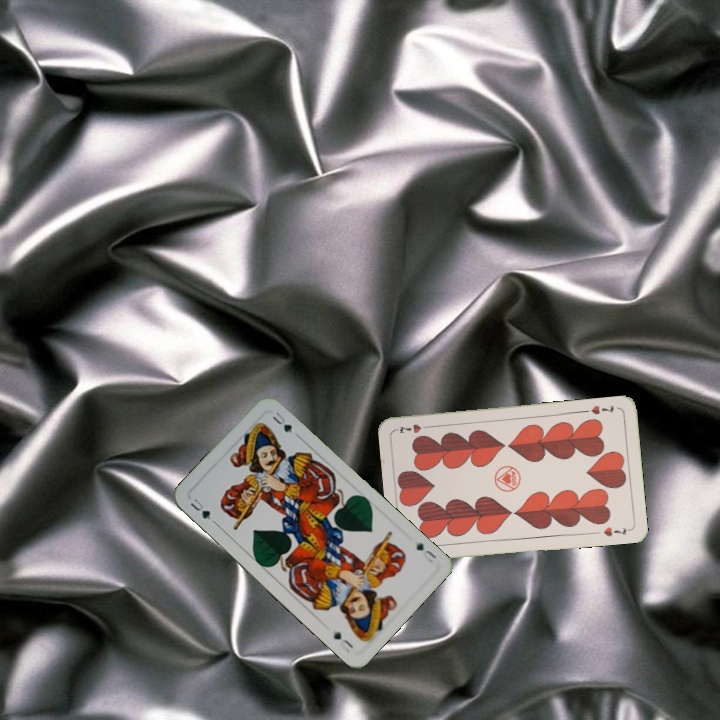GU: (186, 494, 213, 522), (412, 539, 439, 565)
H7: (580, 401, 616, 417)
